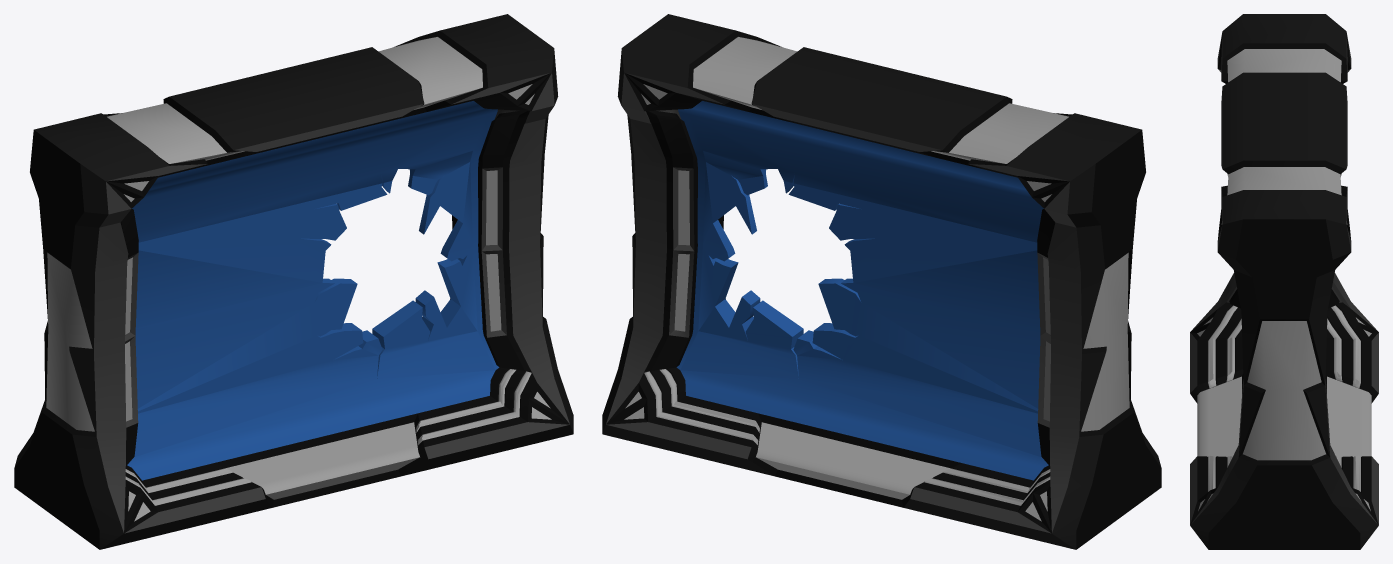
File: Window Broken_Side.FBX
3 renders of one model, left to right at view 1: azimuth 30°, elevation 25°; view 2: azimuth 150°, elevation 25°; view 3: azimuth 270°, elevation 25°, orthographic. The views are drawn at different scales.
Visible parts, largest first — view 1: Window; view 2: Window; view 3: Window.
Boxes of the visible parts, x1,y1,x2,y2 form: Window: (14,14,573,549); Window: (602,14,1161,549); Window: (1190,14,1378,549).
Size of the model in its own units: 400 by 300 by 155.
